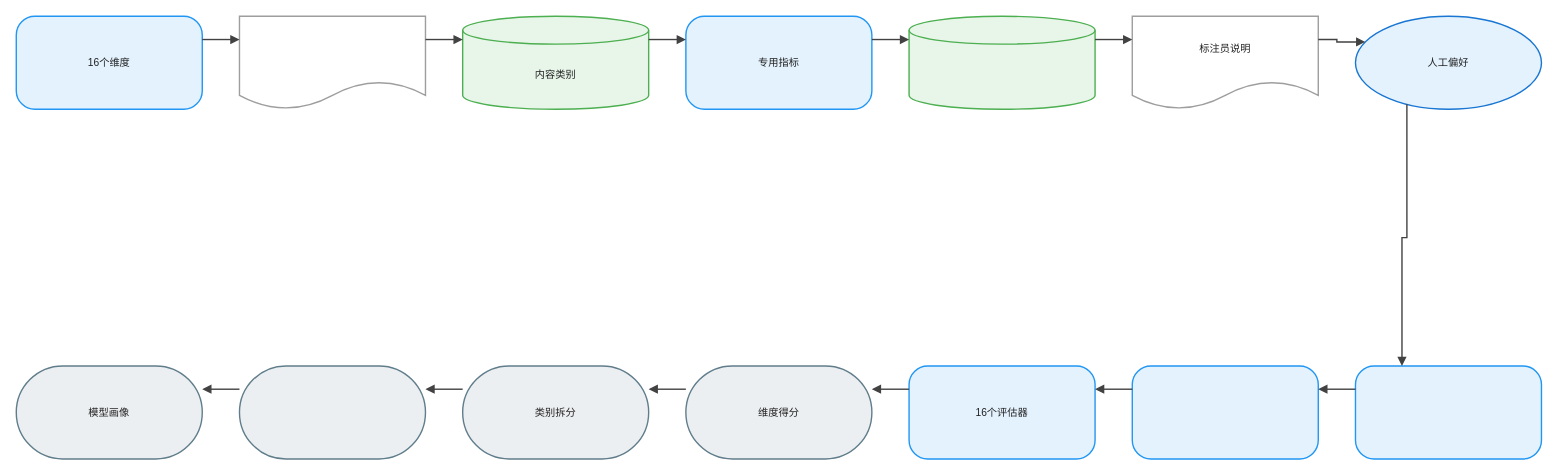
This 1559x476 diagram has some shape labels left out. Here are the shapes that lost their labels. From the top down, the centre of each, then its label:
the point at 332,62: 维度提示套件
the point at 1001,62: 共同视频生成
the point at 332,412: 质量加语义
the point at 1225,412: 冻结提示运行
the point at 1448,412: 人类一致性核验
